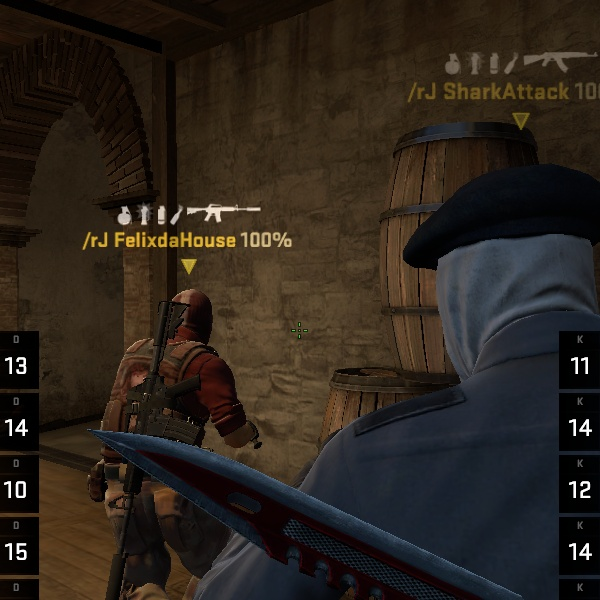t_body: (72, 288, 287, 591)
t_head: (146, 285, 223, 371)
